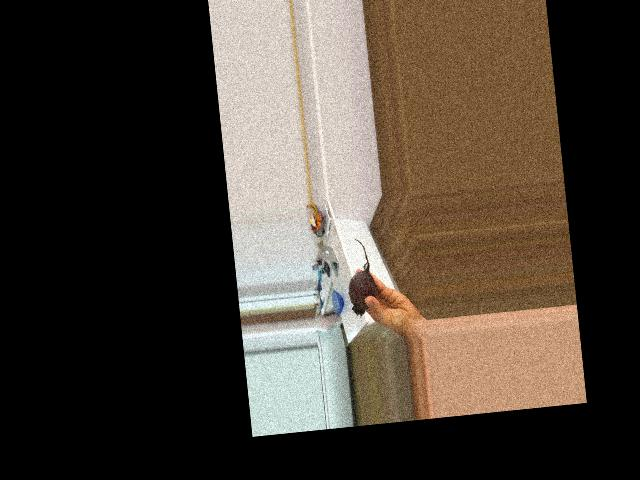beet: (343, 236, 378, 317)
